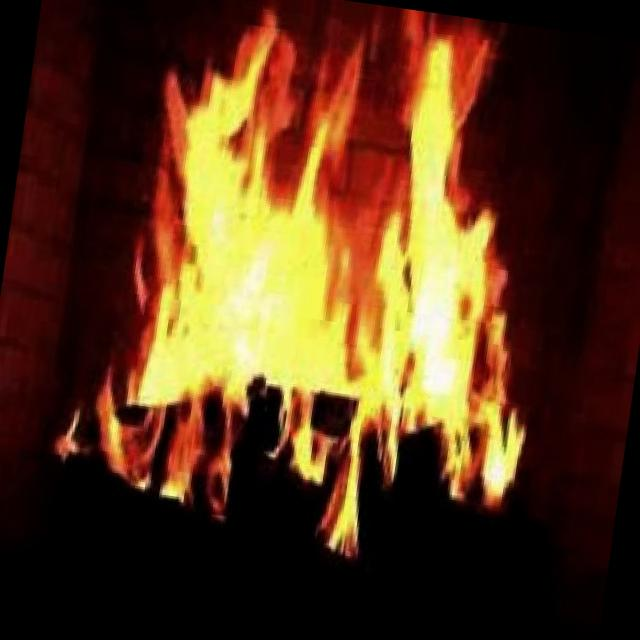fire: (106, 37, 556, 490)
